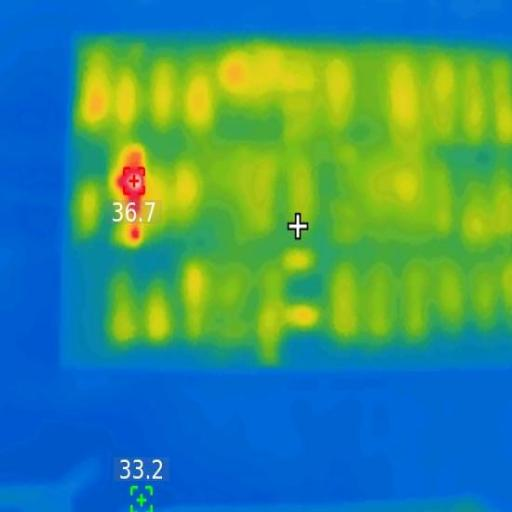hotspot: (115, 150, 153, 241)
